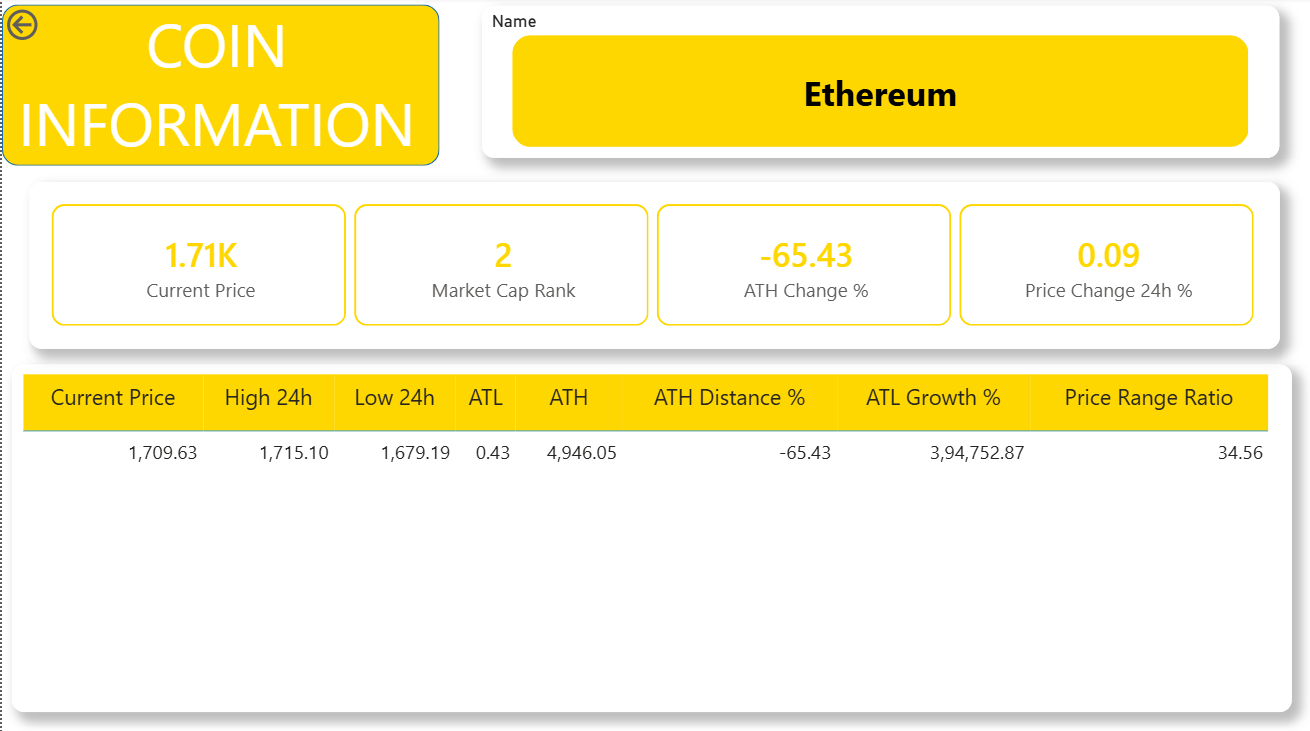

What the dashboard file says about the page in this screenshot:
{"tool":"powerbi","page":{"name":"Coin Information","canvas":[1280,720],"ordinal":3},"visuals":[{"type":"shape","box":[0,7.3,428,157.7],"z":0},{"type":"textbox","box":[9.9,0,400.9,165.1],"z":1000},{"type":"advancedSlicerVisual","fields":{"Values":["clean_crypto_final.name"]},"box":[469.6,8.6,780.2,149.2],"z":2000},{"type":"cardVisual","fields":{"Data":["Sum(clean_crypto_final.current_price)","Sum(clean_crypto_final.market_cap_rank)","Sum(clean_crypto_final.ath_change_percentage)","Sum(clean_crypto_final.price_change_percentage_24h)"]},"box":[27.5,180.8,1223.3,163.4],"z":3000},{"type":"tableEx","fields":{"Values":["clean_crypto_final.current_price","clean_crypto_final.high_24h","clean_crypto_final.low_24h","clean_crypto_final.atl","clean_crypto_final.ath","clean_crypto_final.ath_distance_pct","clean_crypto_final.atl_growth_pct","clean_crypto_final.price_range_ratio"]},"box":[10.1,360.1,1252.3,339.8],"z":4000},{"type":"actionButton","box":[0,7.4,100.5,39.7],"z":5000}]}

Visuals, with their boxes in screenshot pixels (x1, y1, x2, y2), scaled from the page's 1280x720 canvas onto the 1310x731 screenshot:
shape: 0, 7, 438, 168
textbox: 10, 0, 420, 168
advancedSlicerVisual - clean_crypto_final.name: 481, 9, 1279, 160
cardVisual - Sum(clean_crypto_final.current_price) x Sum(clean_crypto_final.market_cap_rank): 28, 184, 1280, 349
tableEx - clean_crypto_final.current_price x clean_crypto_final.high_24h: 10, 366, 1292, 711
actionButton: 0, 8, 103, 48
